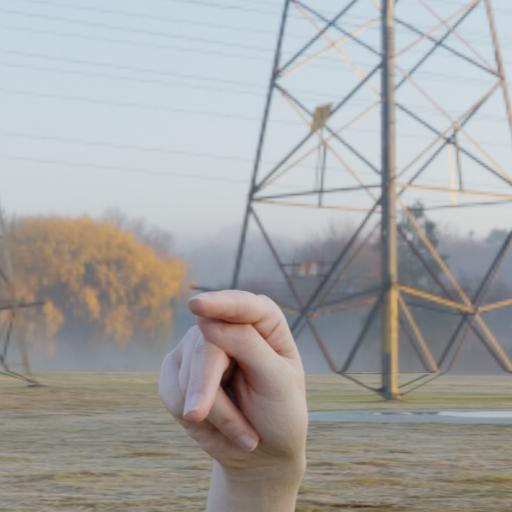P: (136, 277, 322, 503)
